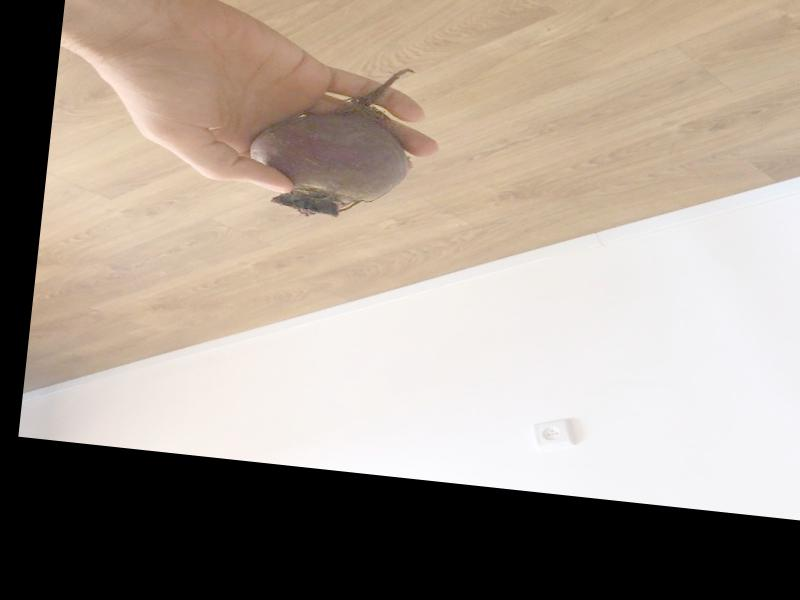Beet: (244, 52, 422, 223)
